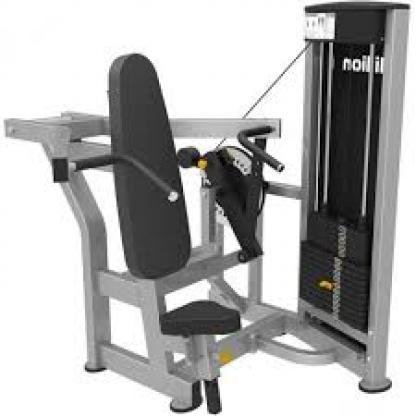shoulder press machine: (0, 0, 410, 414)
